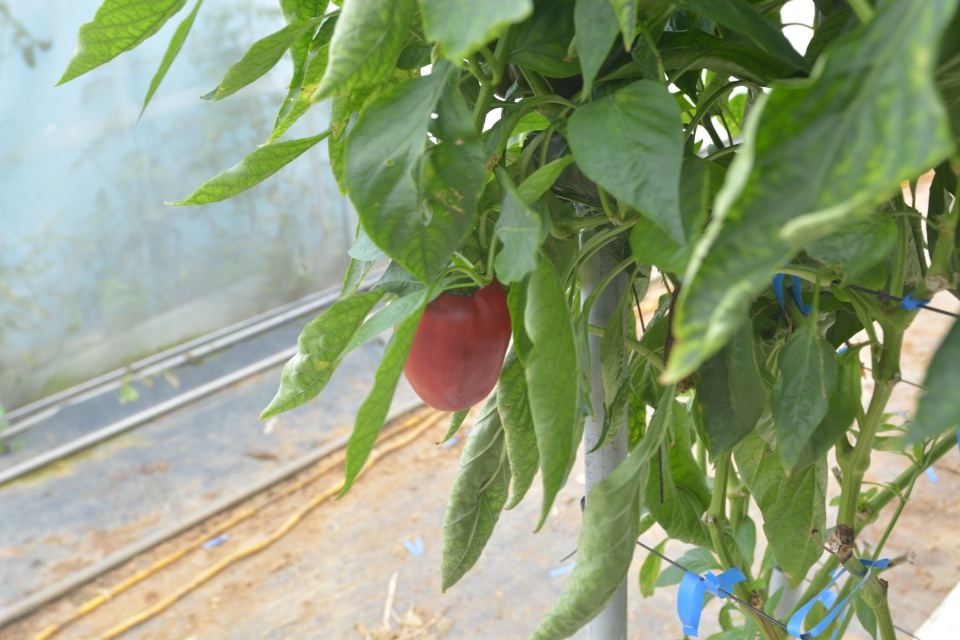fruit: (402, 272, 513, 412)
pedicle: (442, 276, 482, 296)
